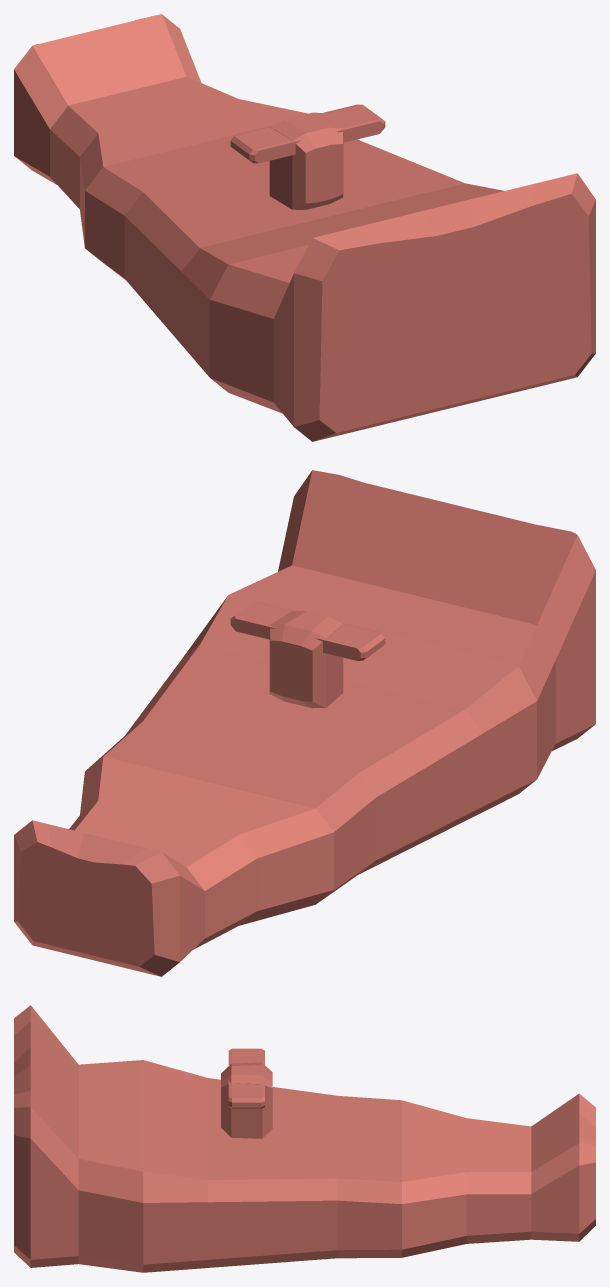
The model's file is calder_scout_b.glb.
3 renders of one model, top to bottom at view 1: azimuth 30°, elevation 25°; view 2: azimuth 150°, elevation 25°; view 3: azimuth 270°, elevation 25°, orthographic. The views are drawn at different scales.
Parts seen in each view (by area): view 1: calder_scout_b; view 2: calder_scout_b; view 3: calder_scout_b.
Part boxes in pixels (x1,y1,x2,y2): calder_scout_b: (14,14,595,441); calder_scout_b: (14,470,595,976); calder_scout_b: (14,1005,595,1272).
Bounding box in the file's own units: 2.2 × 1.31 × 4.3.
